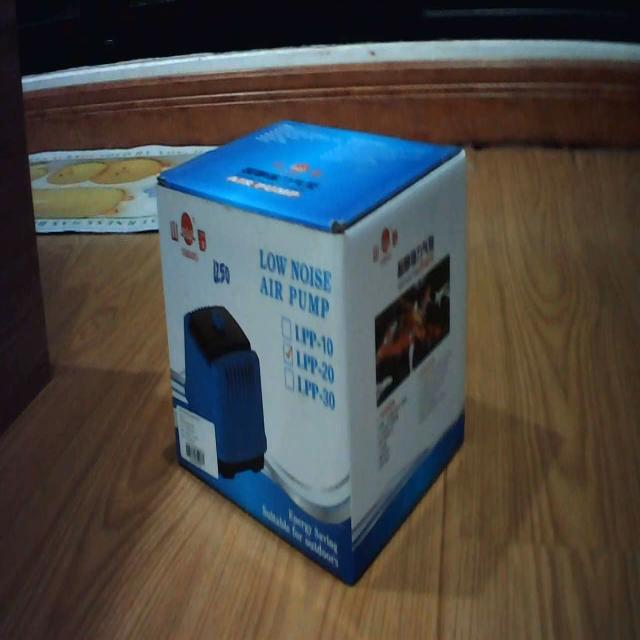YAMANO_LPP_20: (146, 97, 484, 603)
